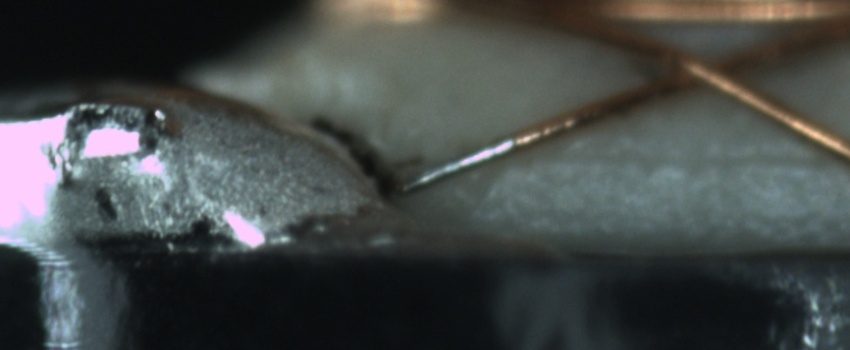CL: (639, 41, 777, 103)
DL: (508, 126, 850, 190)
TS: (393, 134, 516, 198)
